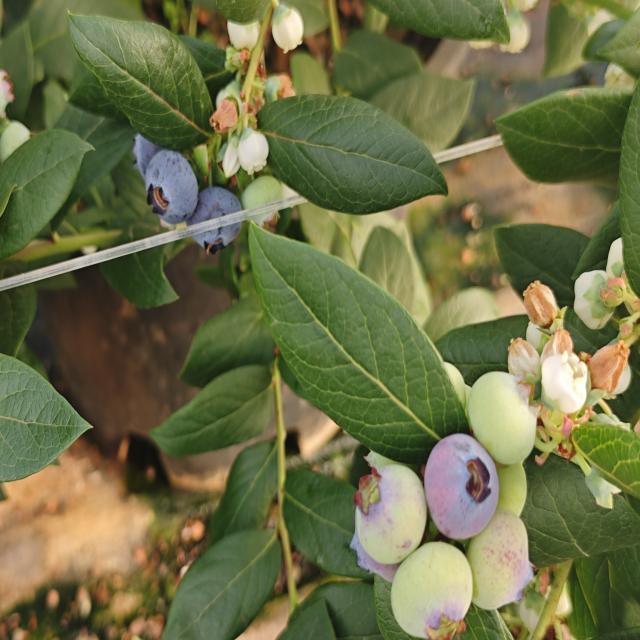ripe: (422, 431, 501, 542), (141, 145, 200, 229), (185, 184, 245, 257), (121, 119, 179, 183)
